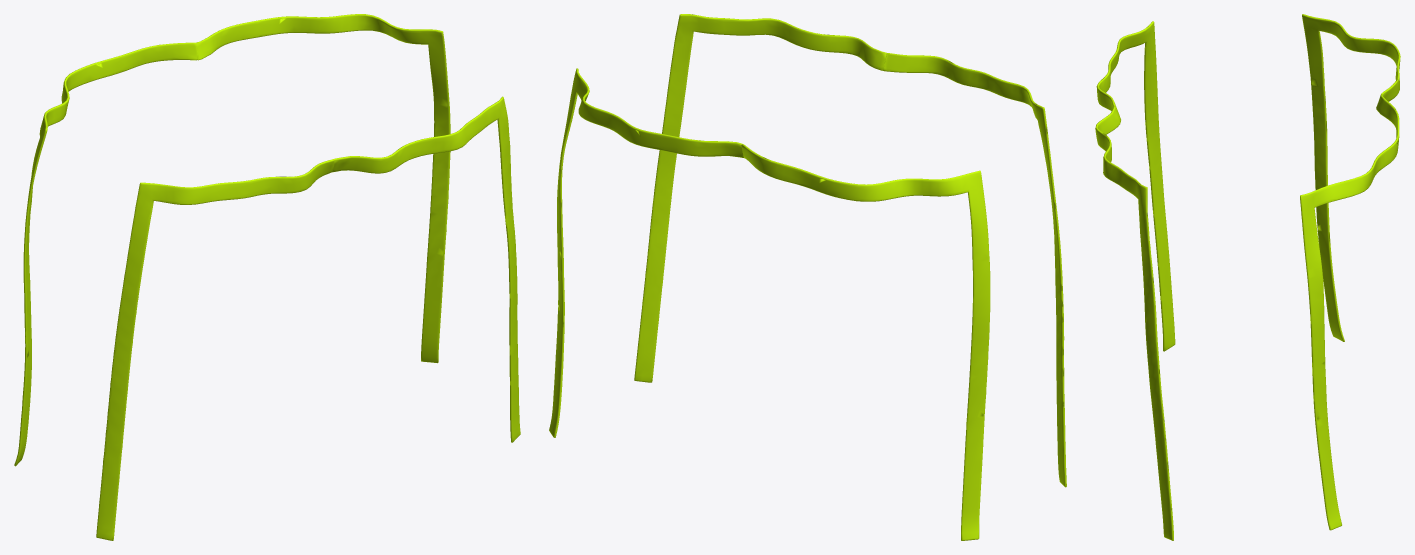
File: BX_4_JOSHUA_CURVED_trim.glb
3 renders of one model, left to right at view 1: azimuth 30°, elevation 25°; view 2: azimuth 150°, elevation 25°; view 3: azimuth 270°, elevation 25°, orthographic. The views are drawn at different scales.
Visible parts, largest first — view 1: BX_4_JOSHUA_CURVED_trim; view 2: BX_4_JOSHUA_CURVED_trim; view 3: BX_4_JOSHUA_CURVED_trim.
Boxes of the visible parts, x1,y1,x2,y2 form: BX_4_JOSHUA_CURVED_trim: (14,14,520,540); BX_4_JOSHUA_CURVED_trim: (549,14,1066,540); BX_4_JOSHUA_CURVED_trim: (1095,14,1400,540).
Size of the model in its own units: 4.41 by 3.63 by 2.87.
